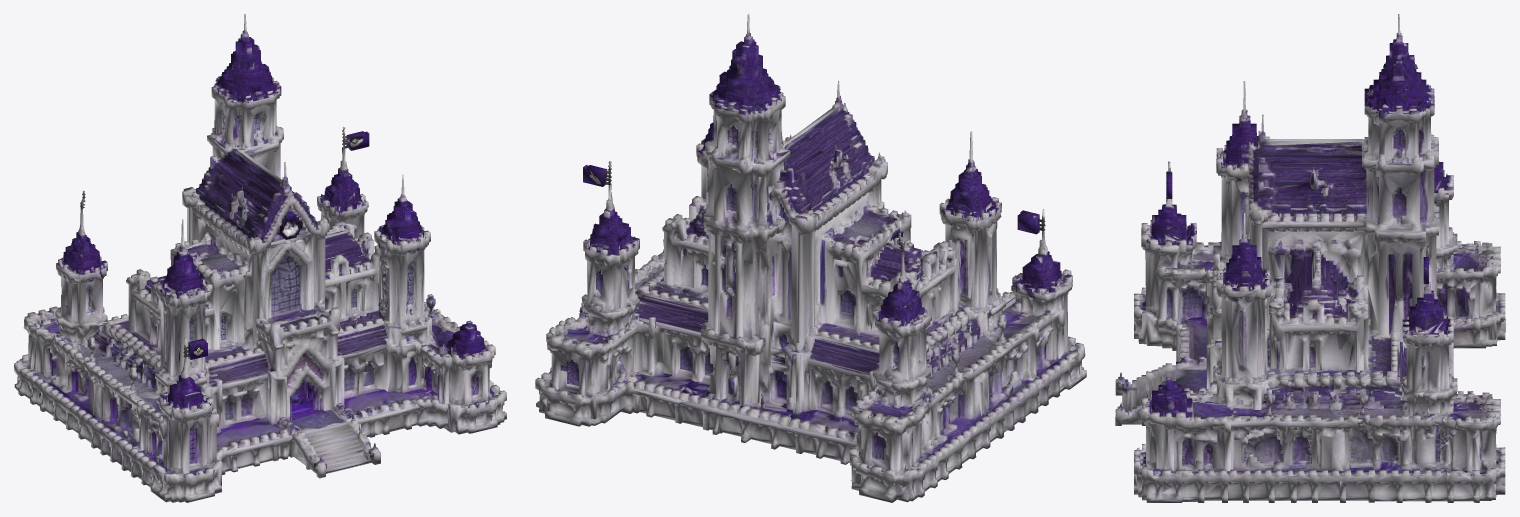
File: Amethyst_Citadel.glb
The picture shows the model from 3 angles, left to right: view 1: azimuth 30°, elevation 25°; view 2: azimuth 150°, elevation 25°; view 3: azimuth 270°, elevation 25°; orthographic projection. The views are drawn at different scales.
Parts seen in each view (by area): view 1: Amethyst_Citadel; view 2: Amethyst_Citadel; view 3: Amethyst_Citadel.
Boxes of the visible parts, <box> form: Amethyst_Citadel: <box>14,14,506,502</box>; Amethyst_Citadel: <box>535,14,1086,502</box>; Amethyst_Citadel: <box>1115,14,1505,502</box>.
Size of the model in its own units: 1.89 by 1.9 by 1.66.
Materials: 1 (1 with a texture image).
